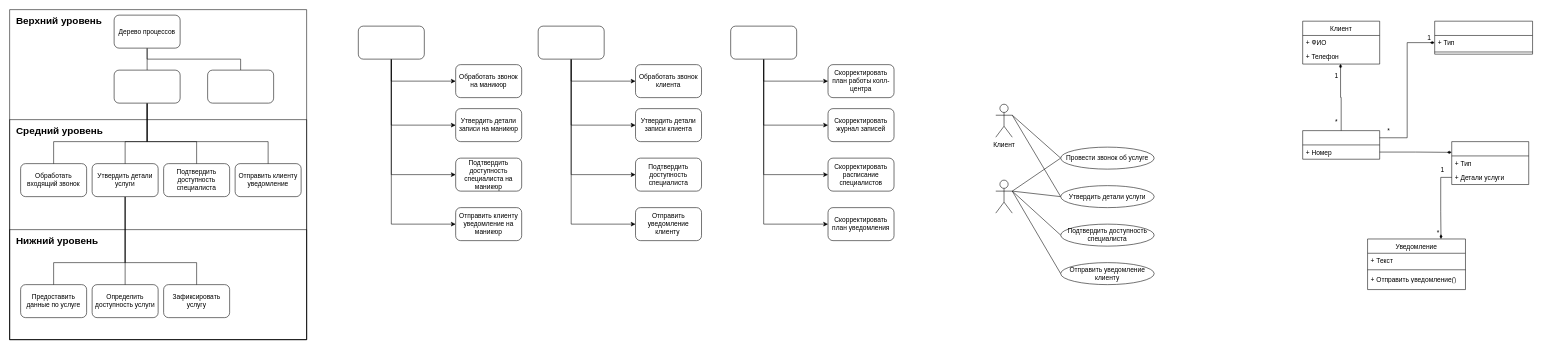
This 1542x349 diagram has some shape labels left out. Here are the shapes that lost their labels. From the top down, the box of each, then its label:
(358, 26, 424, 59): Обработать запись на маникюр
(538, 26, 604, 59): Обработать запись клиента
(730, 26, 797, 59): Скорректировать объекты
(1434, 21, 1533, 54): Специалист
(114, 70, 180, 103): Записаться на маникюр
(207, 70, 274, 103): Записаться на педикюр
(1302, 130, 1380, 159): Запись
(1451, 141, 1529, 185): Услуга
(995, 180, 1012, 213): Оператор
